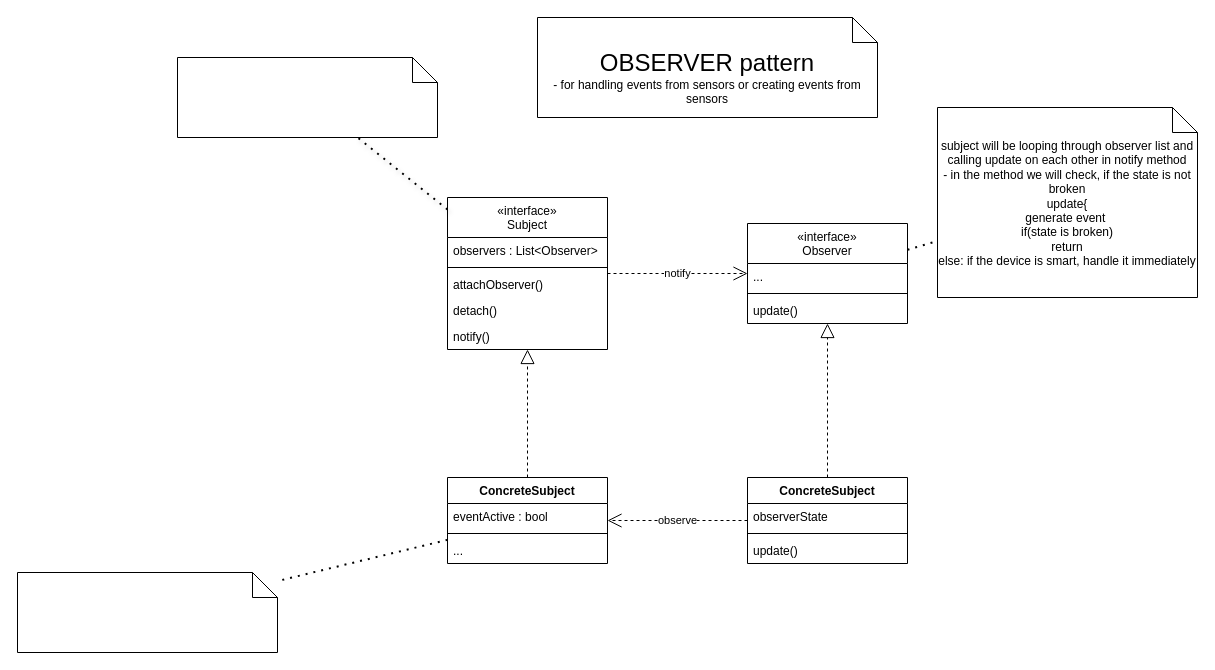
Image size: 1215x670. Some labels were removed from this diagram. Each missing label, with the centre of its shape:
subject has more attributes, but only event active is relevant for this diagram: [147,612]
subject will be the sensor, on which we will be listening on - e.g. wind sensor: [307,97]
